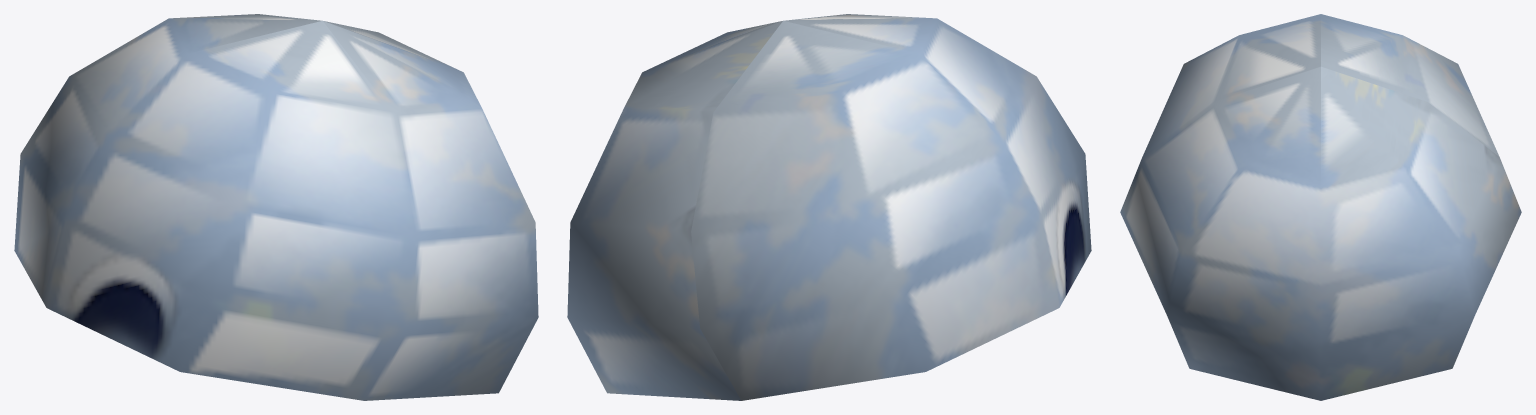
File: Blue_MD_MainSquare_PROP06.fbx
3 views of the same model, side by side, from view 1: azimuth 30°, elevation 25°; view 2: azimuth 150°, elevation 25°; view 3: azimuth 270°, elevation 25° (orthographic). The views are drawn at different scales.
Visible parts, largest first — view 1: Yellow_MDaBlue_MD_MainSquare_PROP06; view 2: Yellow_MDaBlue_MD_MainSquare_PROP06; view 3: Yellow_MDaBlue_MD_MainSquare_PROP06.
Part boxes in pixels (left/top/right/bottom): Yellow_MDaBlue_MD_MainSquare_PROP06: left=14, top=14, right=538, bottom=400; Yellow_MDaBlue_MD_MainSquare_PROP06: left=567, top=14, right=1091, bottom=400; Yellow_MDaBlue_MD_MainSquare_PROP06: left=1120, top=14, right=1521, bottom=400.
Size of the model in its own units: 0.2512 by 0.1872 by 0.2447.
